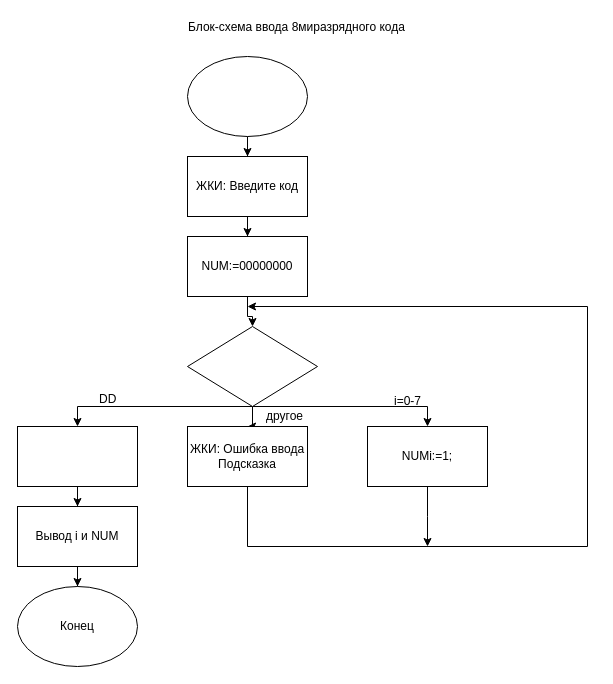
Some shapes in this 613 by 684 pixel diagram are drawn without their labels. Here are the shapes that lost their labels. From the top down, the centre of each, then its label:
At (247,96): "Начало".
At (252,366): "Клавиша".
At (77,456): "ЖКИ: Код введен".
